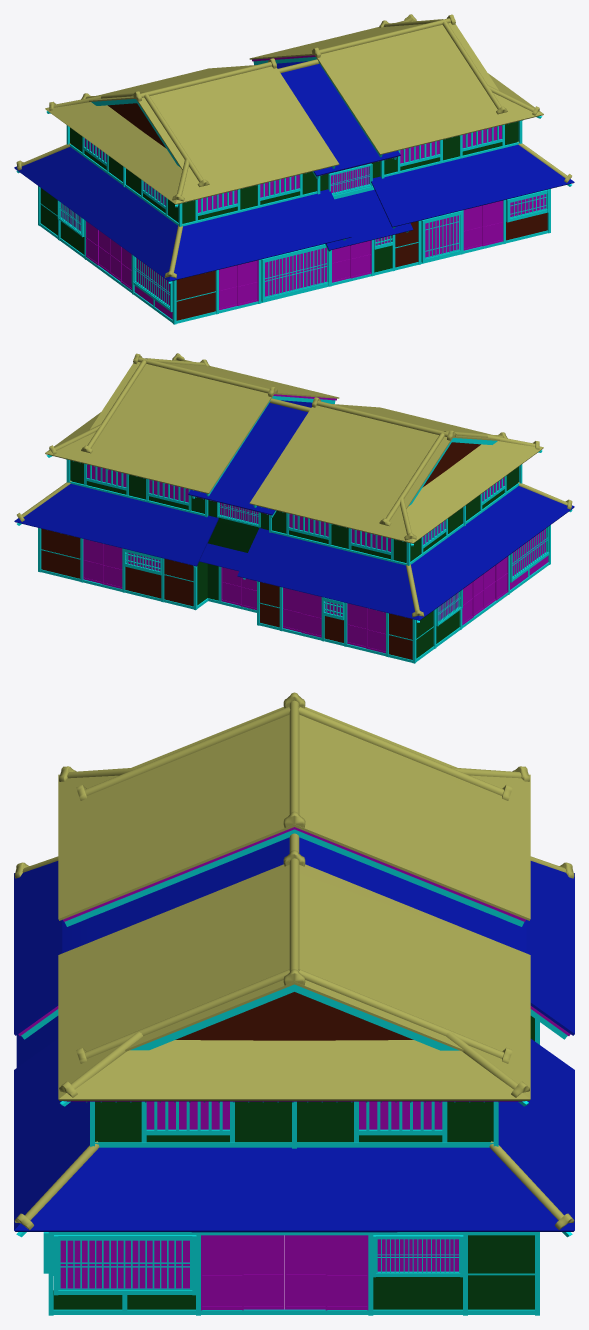
File: Machiya02.fbx
The picture shows the model from 3 angles, top to bottom: view 1: azimuth 30°, elevation 25°; view 2: azimuth 150°, elevation 25°; view 3: azimuth 270°, elevation 25°; orthographic projection. The views are drawn at different scales.
Parts seen in each view (by area): view 1: Machiya02_g3; view 2: Machiya02_g3; view 3: Machiya02_g3.
Part boxes in pixels (left/top/right/bottom): Machiya02_g3: left=14, top=14, right=574, bottom=324; Machiya02_g3: left=14, top=353, right=574, bottom=663; Machiya02_g3: left=14, top=692, right=574, bottom=1315.
Bounding box in the file's own units: 1727 × 713 × 1143.
